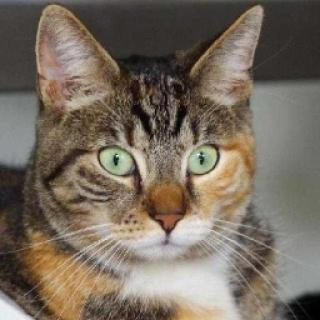cat: (26, 3, 270, 268)
nose: (138, 181, 194, 241)
